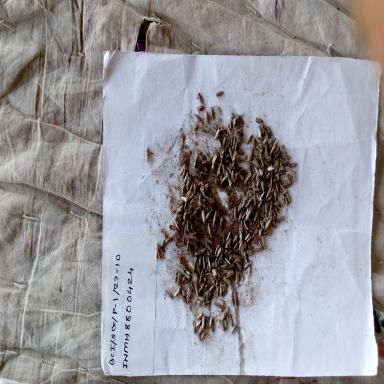pbw: (235, 258, 244, 274), (183, 146, 194, 159), (161, 226, 169, 243), (229, 320, 237, 336), (144, 147, 151, 165), (263, 186, 272, 200), (210, 153, 217, 171), (164, 288, 174, 300), (178, 283, 186, 298), (233, 290, 240, 307), (235, 200, 244, 213), (245, 196, 254, 209), (211, 209, 217, 228), (188, 286, 195, 302), (178, 162, 186, 176), (194, 282, 201, 298), (234, 124, 244, 135), (182, 209, 191, 221), (168, 223, 180, 232), (265, 217, 272, 232), (245, 134, 253, 147), (193, 271, 201, 284), (218, 319, 226, 332), (198, 281, 206, 294), (205, 208, 213, 221), (207, 222, 213, 239), (234, 271, 240, 288), (205, 236, 215, 246), (190, 233, 200, 243), (188, 210, 198, 220), (204, 243, 214, 253), (242, 260, 252, 270), (196, 246, 207, 255), (277, 214, 286, 225), (255, 115, 266, 124), (220, 174, 229, 185), (178, 220, 185, 234), (253, 164, 260, 178), (213, 242, 220, 256), (197, 92, 204, 106), (212, 266, 219, 280), (214, 128, 221, 142), (172, 218, 180, 230), (222, 280, 228, 296), (188, 259, 196, 271), (178, 263, 186, 275), (242, 174, 250, 186), (196, 309, 204, 321), (194, 112, 202, 124), (252, 158, 260, 170), (220, 147, 228, 159), (244, 210, 252, 222), (185, 238, 191, 254), (183, 170, 189, 186), (181, 166, 188, 179), (231, 116, 238, 129), (208, 272, 215, 285), (269, 136, 276, 149), (224, 230, 231, 243), (222, 318, 229, 331), (198, 322, 205, 335), (216, 162, 222, 177), (222, 276, 232, 285), (260, 235, 266, 250), (198, 150, 208, 159), (156, 246, 162, 261), (222, 306, 228, 321), (214, 280, 219, 298), (201, 314, 206, 332), (201, 297, 210, 307), (272, 173, 280, 184), (246, 234, 254, 245), (256, 144, 264, 155), (208, 282, 216, 293), (216, 266, 224, 277), (186, 190, 194, 201), (179, 294, 187, 305), (286, 172, 294, 183), (280, 144, 288, 155), (184, 269, 192, 280), (194, 169, 202, 180), (200, 330, 207, 342), (238, 170, 245, 182), (204, 111, 210, 125), (237, 132, 244, 144), (265, 171, 272, 183), (231, 232, 238, 244), (266, 224, 273, 236), (155, 240, 162, 252), (285, 190, 292, 202), (220, 298, 226, 312), (259, 179, 265, 193), (228, 146, 234, 160), (216, 246, 222, 260), (193, 154, 199, 168), (203, 181, 210, 193), (259, 154, 265, 168), (274, 158, 280, 172), (190, 177, 196, 191), (179, 183, 185, 197), (254, 134, 262, 144), (211, 317, 216, 333), (241, 210, 249, 220), (232, 205, 237, 221), (201, 209, 206, 225), (189, 203, 199, 211), (196, 105, 206, 113), (282, 177, 290, 187), (229, 292, 234, 308), (196, 296, 204, 306), (222, 162, 227, 178), (213, 300, 223, 308), (198, 192, 203, 208), (176, 204, 184, 214), (170, 206, 178, 216), (226, 270, 236, 278), (225, 248, 233, 258), (208, 197, 218, 205), (185, 176, 190, 192), (164, 235, 172, 245), (274, 181, 280, 194), (160, 237, 166, 250), (248, 146, 254, 159), (259, 217, 265, 230), (267, 125, 274, 136), (220, 264, 231, 271), (232, 241, 239, 252), (206, 249, 213, 260), (237, 138, 244, 149), (217, 135, 222, 150), (243, 249, 248, 264), (278, 157, 283, 172), (173, 232, 178, 247), (226, 122, 231, 137), (266, 164, 274, 173), (285, 165, 294, 173), (256, 200, 264, 209), (220, 279, 224, 297), (283, 153, 292, 161), (192, 320, 196, 338), (268, 199, 274, 211), (243, 183, 252, 191), (188, 218, 194, 230), (195, 179, 204, 187), (234, 114, 240, 126), (246, 265, 252, 277), (239, 167, 248, 175), (174, 266, 178, 284), (188, 169, 196, 178), (175, 252, 184, 260), (189, 281, 195, 293), (238, 210, 244, 222), (225, 238, 231, 250), (178, 240, 187, 248), (215, 89, 223, 98), (193, 254, 198, 268), (252, 228, 259, 238), (202, 164, 209, 174), (232, 150, 237, 164), (242, 195, 247, 209), (208, 315, 213, 329), (207, 127, 214, 137), (224, 257, 231, 267), (229, 313, 234, 327), (193, 183, 198, 197), (280, 194, 285, 208), (245, 249, 255, 256), (254, 247, 264, 254), (231, 170, 236, 184), (287, 161, 297, 168), (252, 212, 259, 222), (195, 318, 202, 328), (212, 122, 219, 132), (199, 125, 206, 135), (206, 290, 213, 300), (255, 178, 261, 189), (258, 226, 264, 237), (262, 128, 268, 139), (226, 164, 232, 175), (255, 192, 261, 203), (174, 287, 180, 298), (183, 198, 188, 211), (272, 147, 280, 155), (238, 156, 246, 164), (174, 214, 182, 222), (219, 216, 223, 232), (228, 115, 232, 131), (258, 126, 262, 142), (201, 158, 209, 166), (238, 224, 242, 240), (210, 105, 214, 121), (244, 232, 252, 240), (202, 255, 206, 271), (220, 126, 228, 134), (258, 210, 266, 218), (234, 257, 243, 264), (196, 294, 205, 301), (180, 196, 189, 203), (197, 256, 202, 268), (197, 261, 201, 276), (197, 159, 202, 171), (251, 171, 257, 181), (273, 206, 279, 216), (184, 223, 188, 237), (237, 148, 244, 156), (281, 160, 289, 167), (178, 268, 182, 282), (264, 202, 268, 216), (234, 170, 238, 184), (247, 160, 251, 174), (186, 290, 190, 304), (240, 220, 244, 234), (272, 214, 276, 228), (273, 200, 280, 208), (260, 124, 265, 135), (252, 220, 257, 231), (257, 238, 262, 249), (238, 240, 243, 251), (250, 239, 259, 245), (270, 185, 276, 194), (259, 143, 265, 152), (176, 198, 185, 204), (228, 175, 232, 188), (232, 136, 236, 149), (264, 144, 268, 157), (222, 135, 226, 148), (284, 194, 288, 207), (207, 256, 211, 269), (244, 221, 249, 231), (202, 283, 207, 293), (211, 186, 216, 196), (278, 184, 283, 194), (248, 188, 255, 195), (214, 257, 218, 269), (292, 172, 296, 184), (186, 220, 189, 234), (262, 138, 266, 146), (230, 136, 233, 146)
